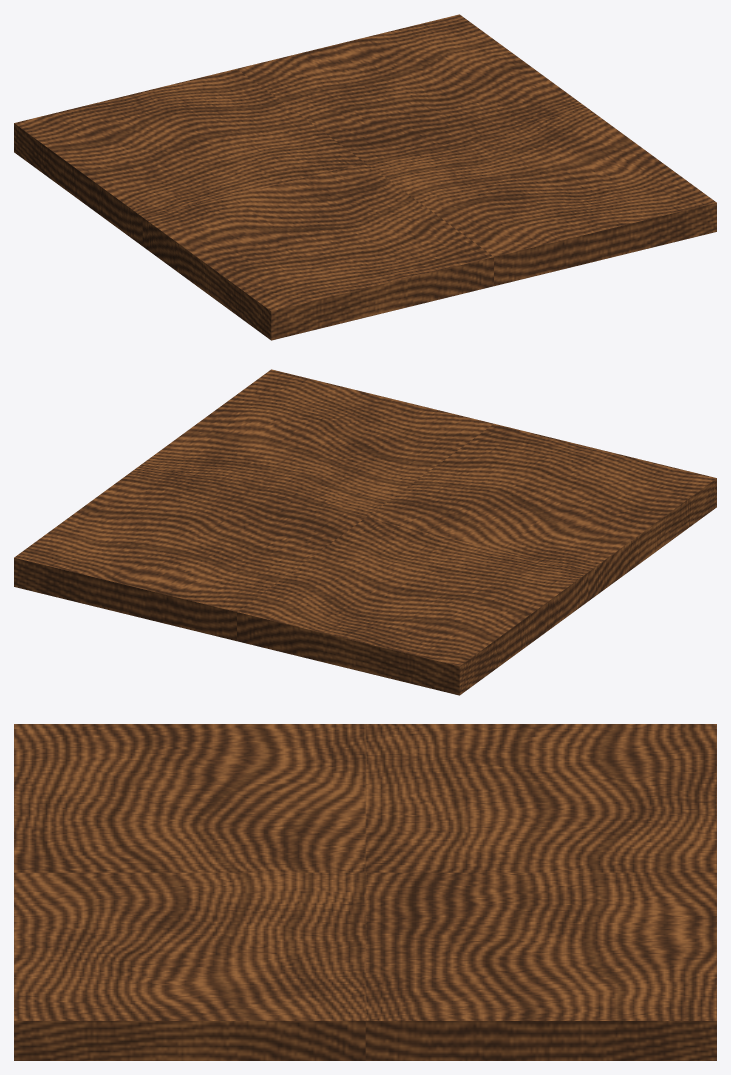
Rendered from wall_top_wood.glb.
3 renders of one model, top to bottom at view 1: azimuth 30°, elevation 25°; view 2: azimuth 150°, elevation 25°; view 3: azimuth 270°, elevation 25°, orthographic. The views are drawn at different scales.
Parts seen in each view (by area): view 1: crypt_wall_top_wood; view 2: crypt_wall_top_wood; view 3: crypt_wall_top_wood.
Part boxes in pixels (left/top/right/bottom): crypt_wall_top_wood: left=14, top=14, right=716, bottom=340; crypt_wall_top_wood: left=14, top=369, right=716, bottom=695; crypt_wall_top_wood: left=14, top=724, right=716, bottom=1060.
Bounding box in the file's own units: 1 × 0.0625 × 1.
Materials: 1 (1 with a texture image).
